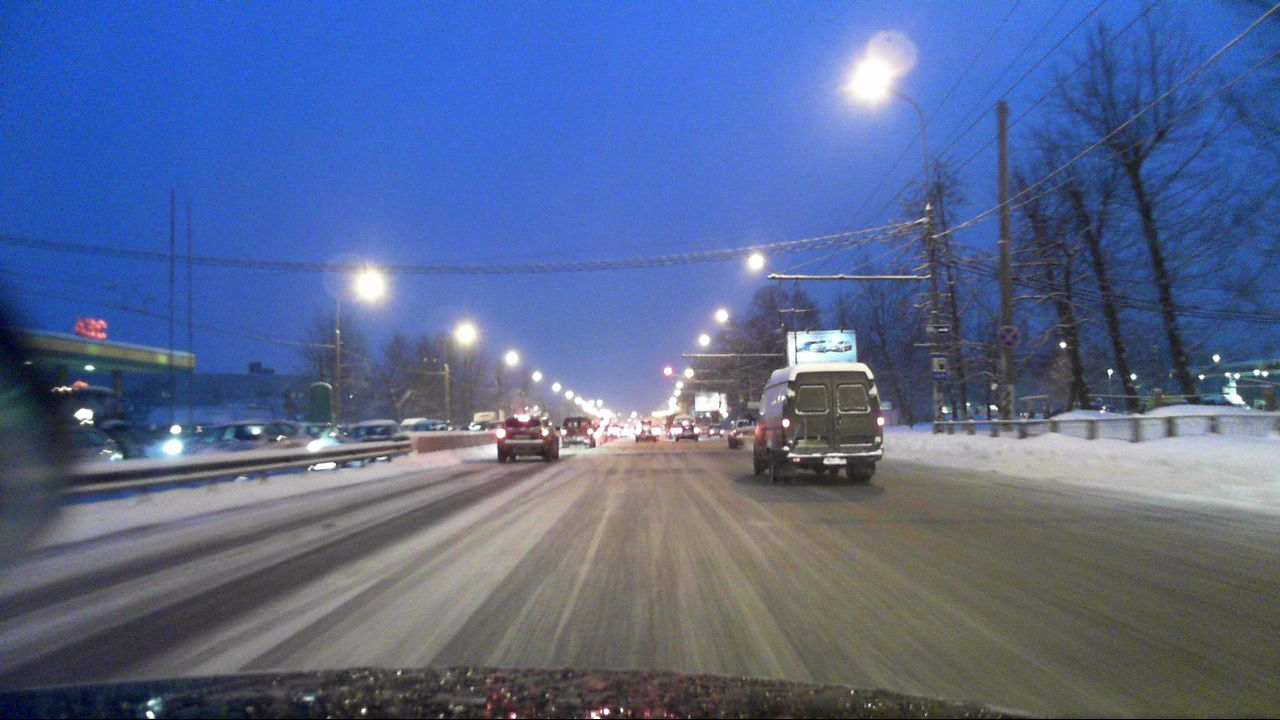No Parking: (996, 326, 1020, 348)
